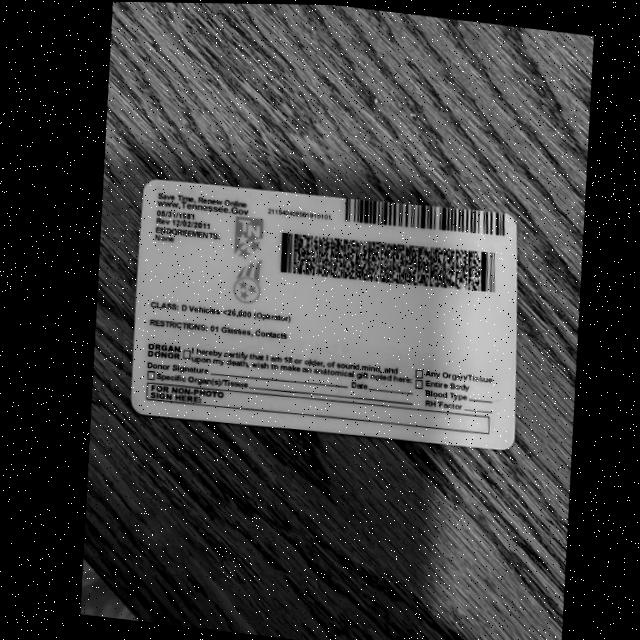card: (132, 181, 517, 449)
